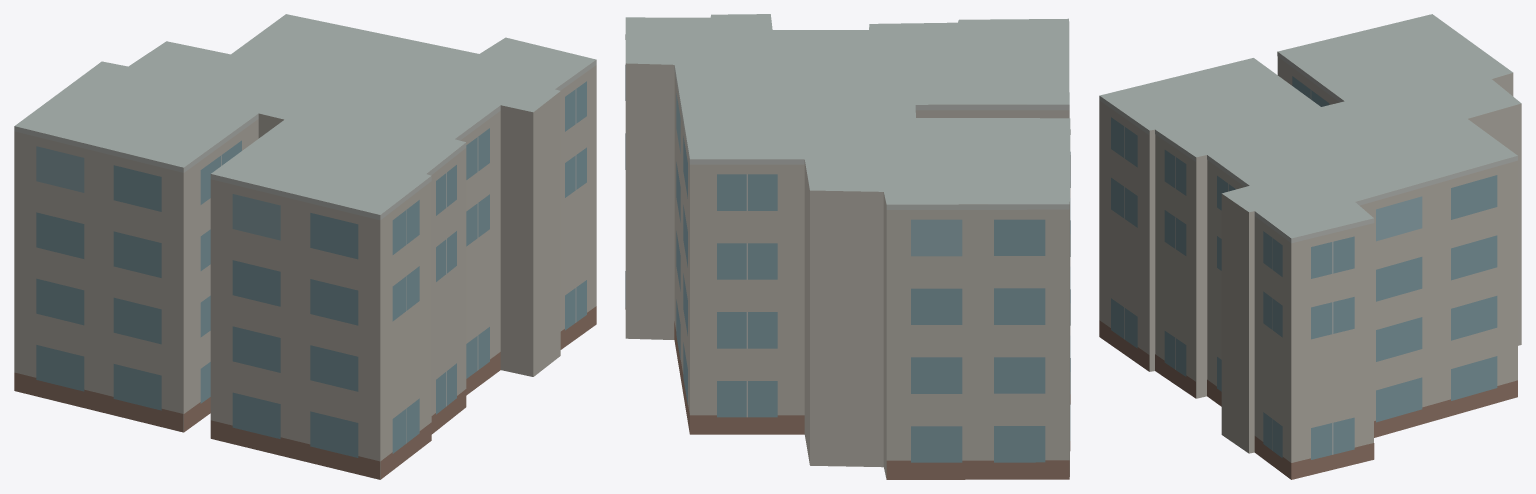
File: survey-upis-33023073.glb
3 renders of one model, left to right at view 1: azimuth 30°, elevation 25°; view 2: azimuth 150°, elevation 25°; view 3: azimuth 270°, elevation 25°, orthographic. The views are drawn at different scales.
Visible parts, largest first — view 1: survey-upis-33023073.tmp; view 2: survey-upis-33023073.tmp; view 3: survey-upis-33023073.tmp.
Boxes of the visible parts, x1,y1,x2,y2 form: survey-upis-33023073.tmp: (14, 14, 596, 479); survey-upis-33023073.tmp: (625, 14, 1070, 479); survey-upis-33023073.tmp: (1099, 14, 1521, 479).
Bounding box in the file's own units: 24.34 × 12.2 × 19.34.
